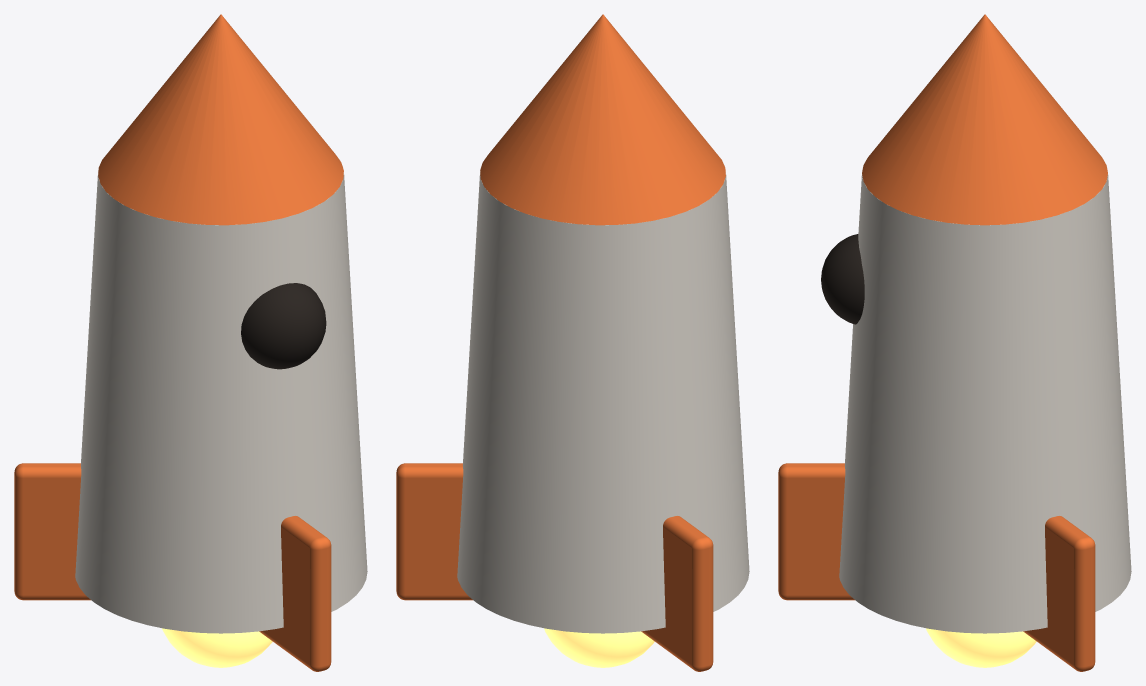
The model's file is example-rocket.glb.
The picture shows the model from 3 angles, left to right: view 1: azimuth 30°, elevation 25°; view 2: azimuth 150°, elevation 25°; view 3: azimuth 270°, elevation 25°; orthographic projection.
Bounding box in the file's own units: 1.24 × 2.44 × 1.2.
